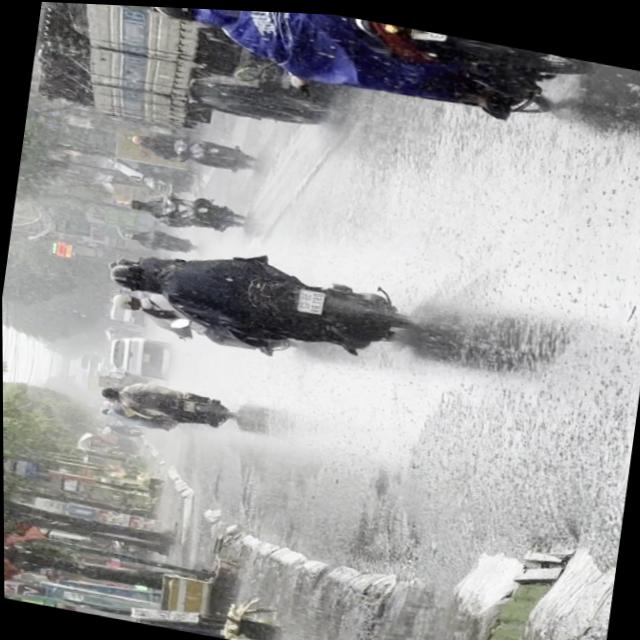helmet: (106, 258, 162, 293), (146, 5, 212, 21)
licenseplate: (135, 5, 605, 136), (95, 224, 428, 374)
nohelmet: (295, 284, 324, 311), (411, 24, 447, 37)
